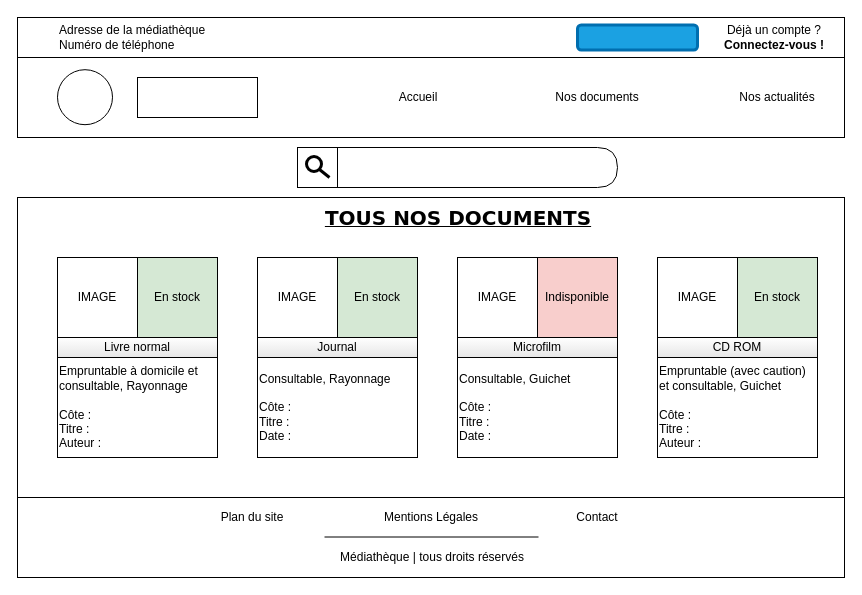
Some shapes in this 862 by 595 pixel diagram are drawn without their labels. The centre of each missing label's shape, as x and y in pixels:
Baseline: [197,97]
Logo: [84,97]
Recherche...: [477,167]
S'incrire: [637,37]
